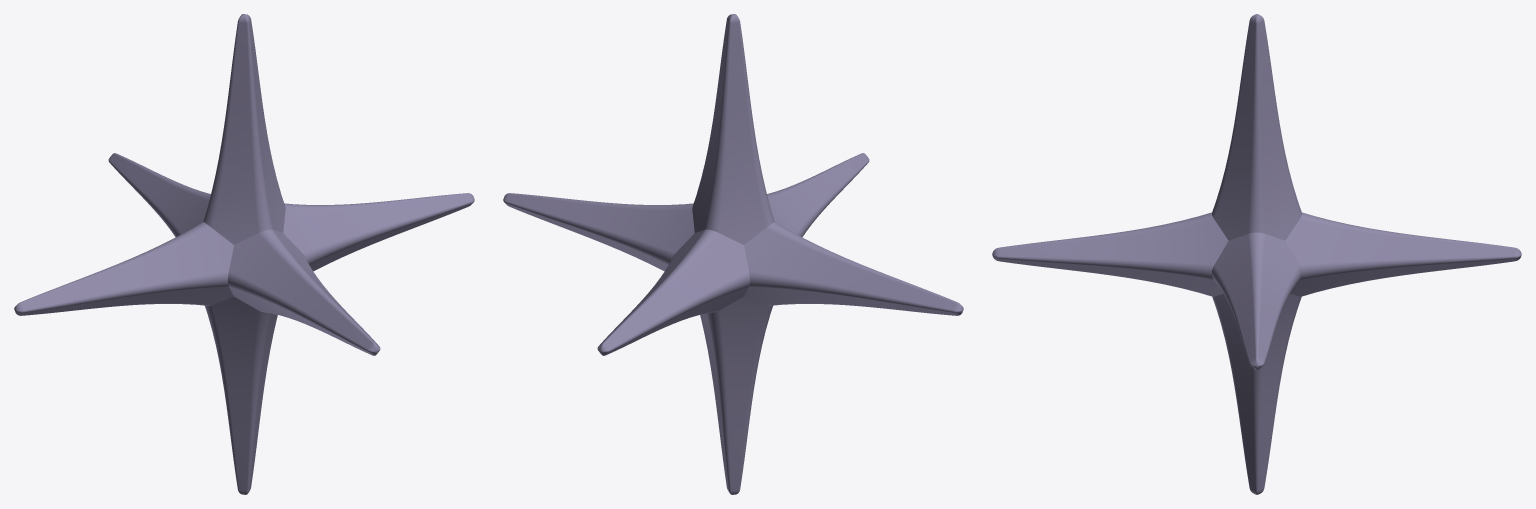
The model's file is star.glb.
3 views of the same model, side by side, from view 1: azimuth 30°, elevation 25°; view 2: azimuth 150°, elevation 25°; view 3: azimuth 270°, elevation 25° (orthographic).
Parts seen in each view (by area): view 1: star; view 2: star; view 3: star.
Boxes of the visible parts, <box> form: star: <box>14,14,474,494</box>; star: <box>503,14,963,494</box>; star: <box>992,14,1521,494</box>.
Bounding box in the file's own units: 2 × 2 × 2.
